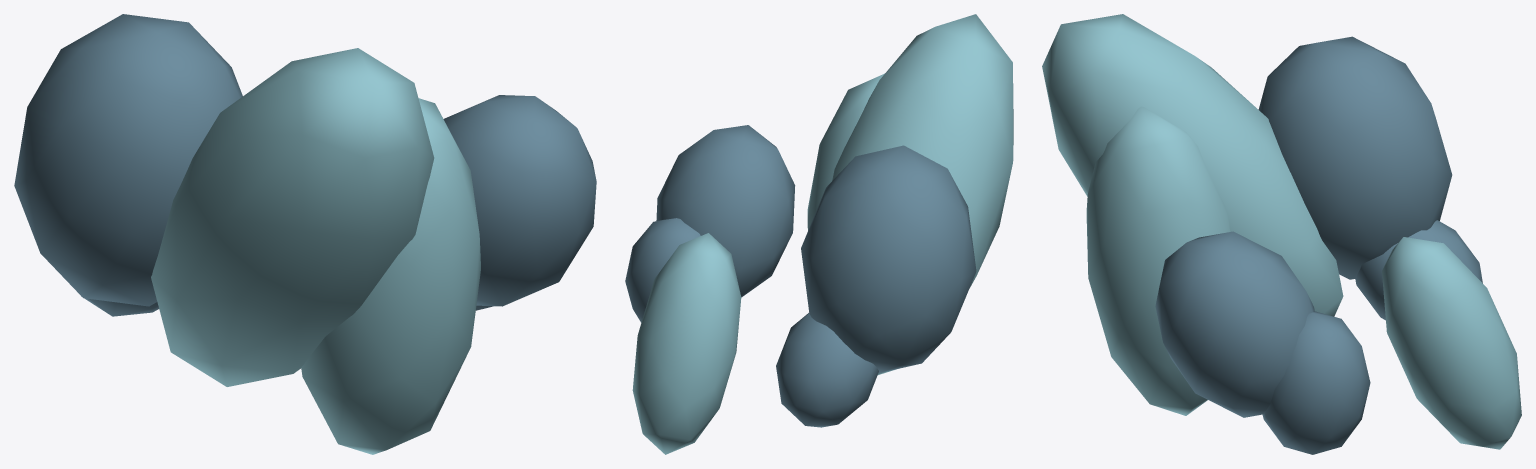
The model's file is dynamic-focus.glb.
3 views of the same model, side by side, from view 1: azimuth 30°, elevation 25°; view 2: azimuth 150°, elevation 25°; view 3: azimuth 270°, elevation 25° (orthographic). The views are drawn at different scales.
Visible parts, largest first — view 1: crystal_5, crystal_2, crystal_1, crystal_4, crystal_6; view 2: crystal_2, crystal_5, crystal_3, crystal_4, crystal_6, crystal_0, crystal_1; view 3: crystal_5, crystal_2, crystal_1, crystal_4, crystal_3, crystal_0, crystal_6.
Boxes of the visible parts, x1,y1,x2,y2 form: crystal_5: (151,48,434,386); crystal_2: (14,14,242,306); crystal_1: (301,98,480,454); crystal_4: (443,95,596,306); crystal_6: (81,296,158,316); crystal_2: (801,145,976,373); crystal_5: (832,14,1013,374); crystal_3: (632,233,741,454); crystal_4: (656,125,795,297); crystal_6: (776,313,878,427); crystal_0: (625,218,700,322); crystal_1: (807,73,884,230); crystal_5: (1042,14,1343,316); crystal_2: (1258,36,1452,279); crystal_1: (1086,106,1229,415); crystal_4: (1155,231,1314,417); crystal_3: (1382,237,1521,449); crystal_0: (1262,311,1370,454); crystal_6: (1355,220,1482,320).
Size of what is drawn, in the model's own units: 2.47 by 2.21 by 2.62.
